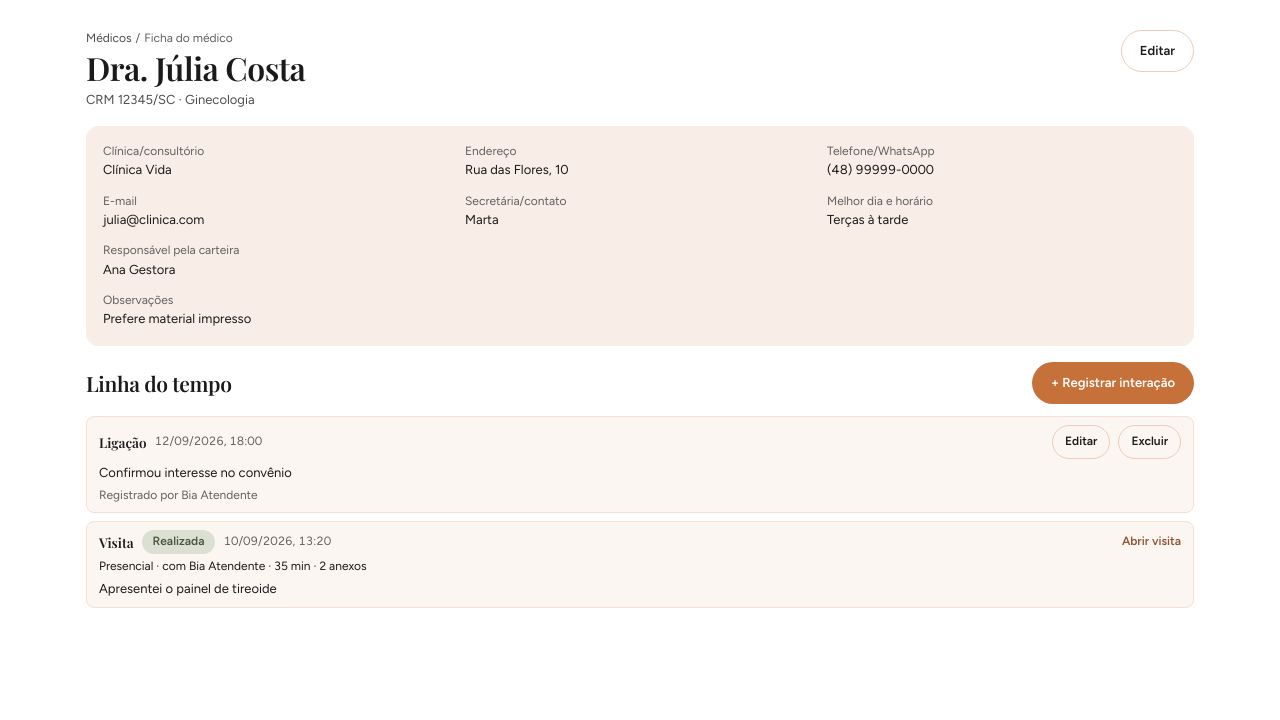
DoctorProfile (/visitation/doctors/:id) › erro de campo do servidor aparece no campo (data no futuro)
Click the button "+ Registrar interação": (1113,383) [1032,362,1194,404]
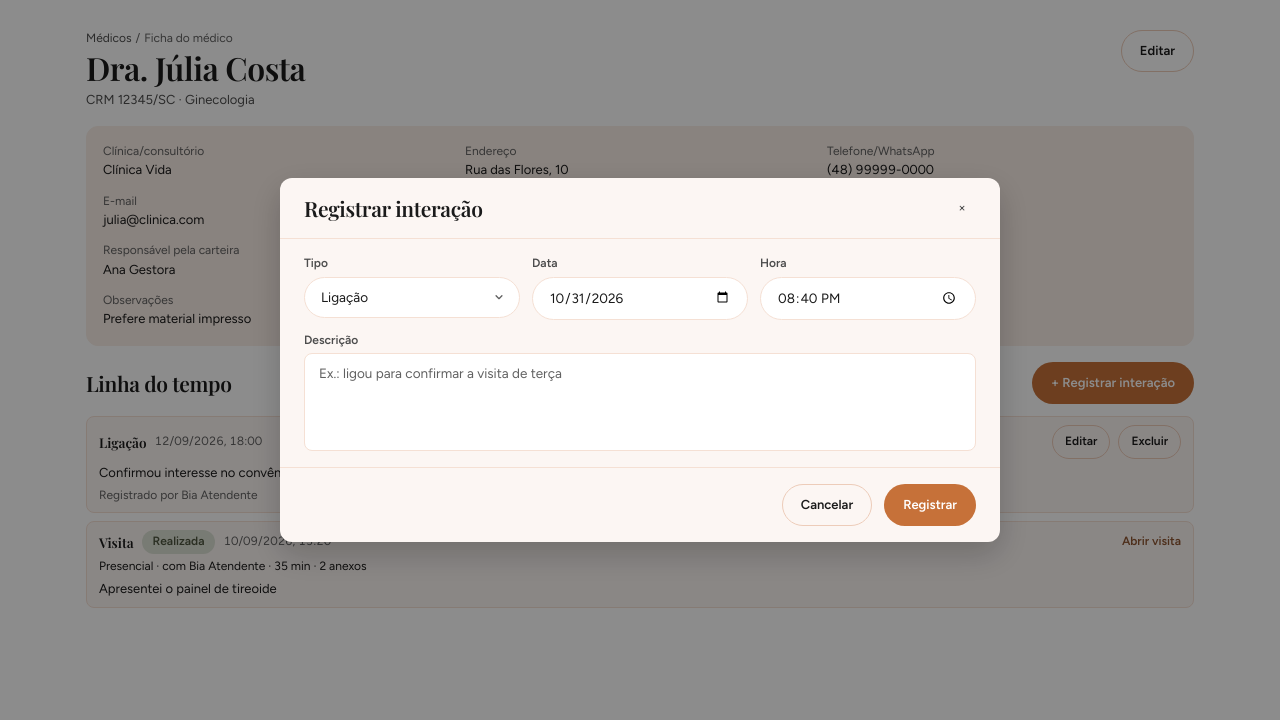
In the text box labelled "Descrição": (640,402) [304,353,976,451], type "Ligação"
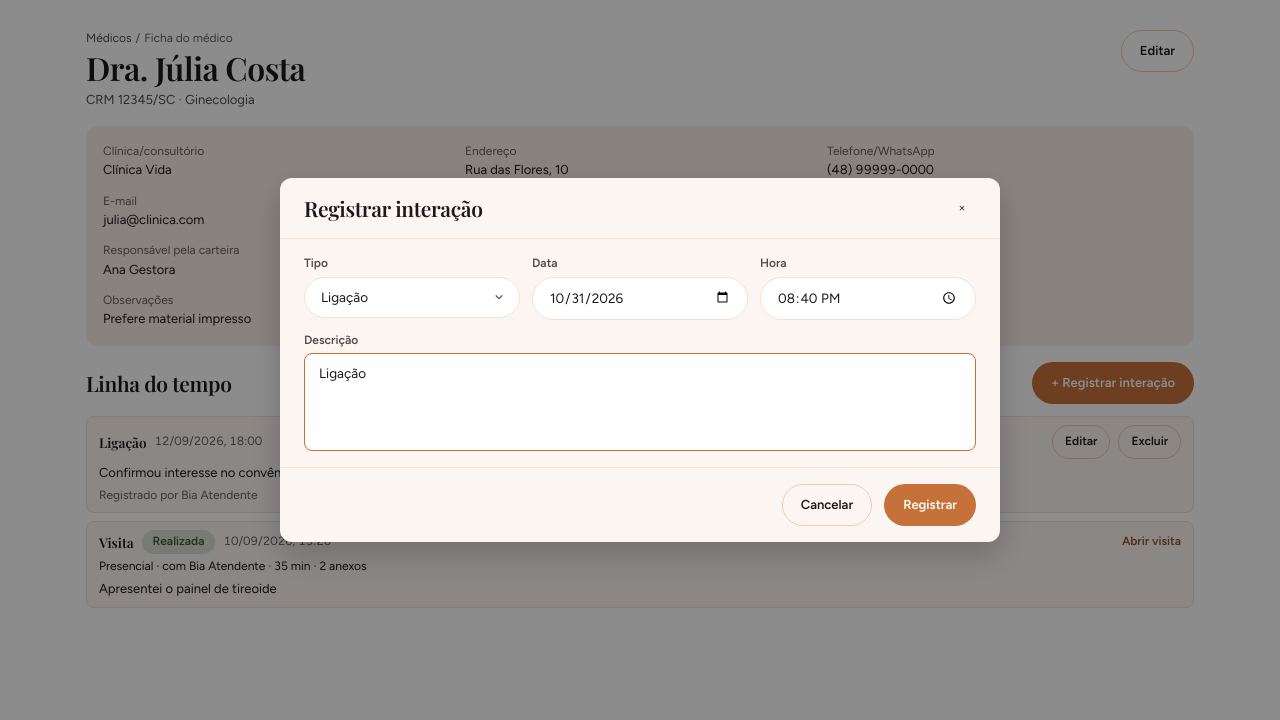
Click the button "Registrar": (930,505) [884,484,976,526]
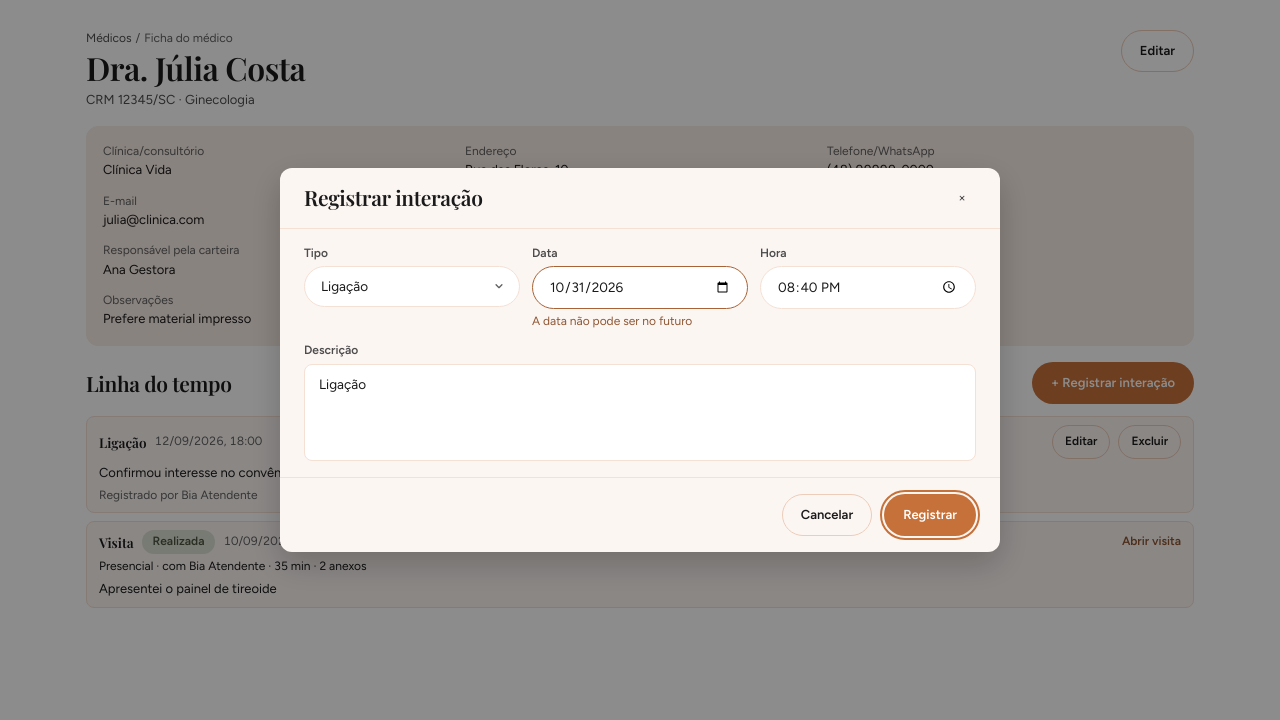
Result: the text "A data não pode ser no futuro" is shown at [532,314,692,328]
